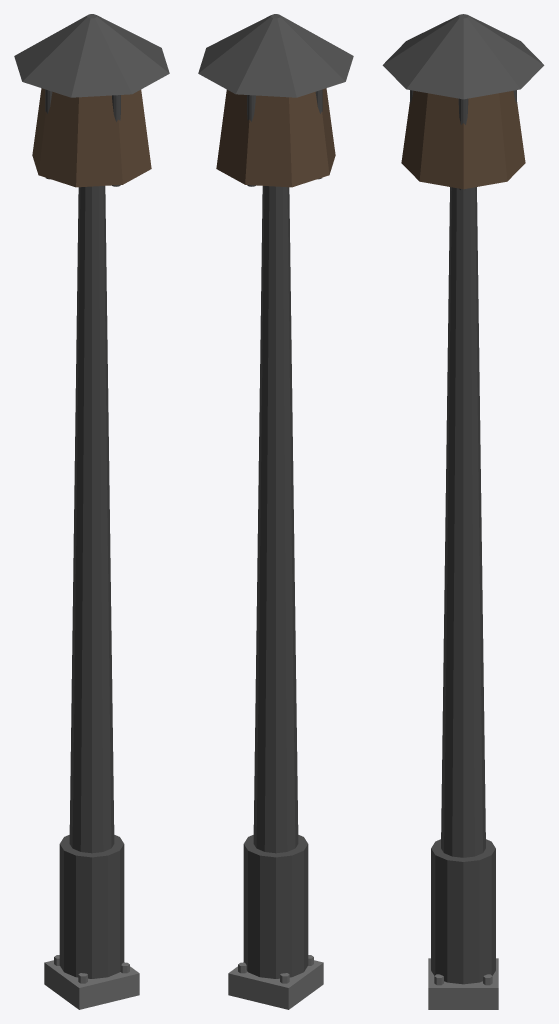
File: streetlight.fbx
The picture shows the model from 3 angles, left to right: view 1: azimuth 30°, elevation 25°; view 2: azimuth 150°, elevation 25°; view 3: azimuth 270°, elevation 25°; orthographic projection.
Parts seen in each view (by area): view 1: streetlight.011; view 2: streetlight.011; view 3: streetlight.011.
Boxes of the visible parts, left/top/right/bottom form: streetlight.011: left=14, top=14, right=169, bottom=1009; streetlight.011: left=198, top=14, right=353, bottom=1009; streetlight.011: left=382, top=14, right=544, bottom=1009.
Size of the model in its own units: 0.6 by 4 by 0.6.
